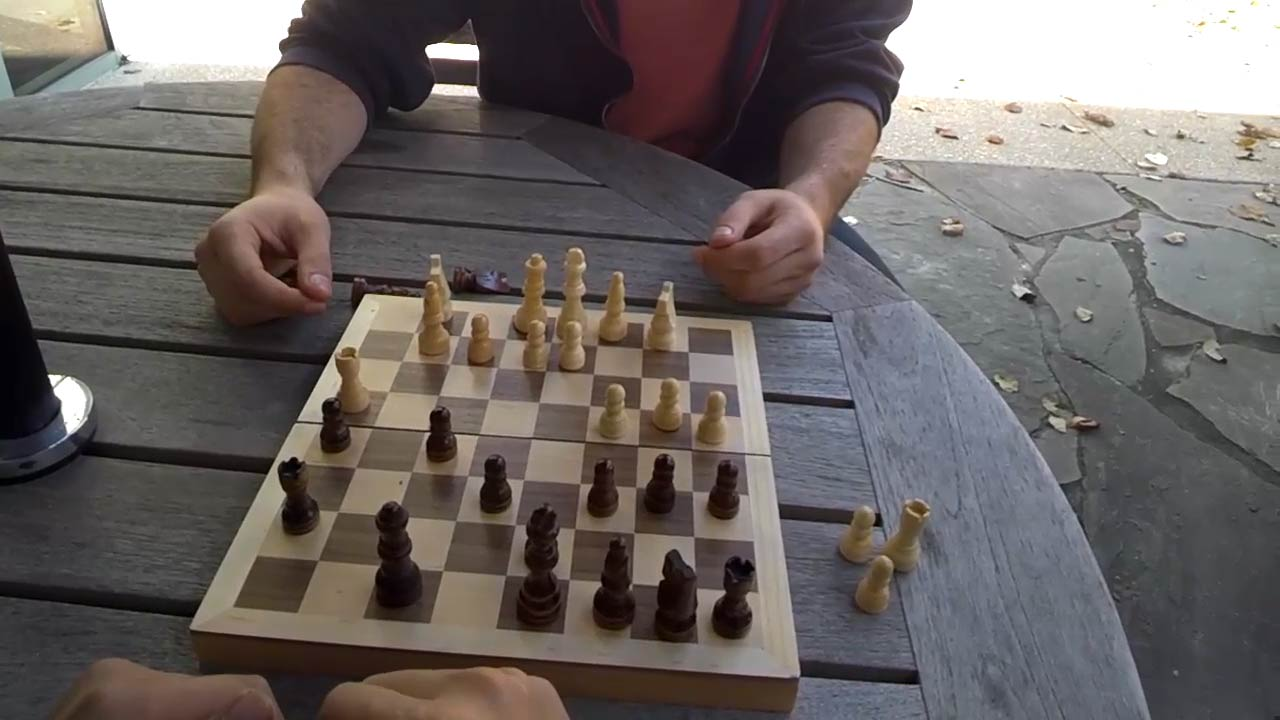hand: (198, 192, 332, 321), (694, 193, 823, 302), (318, 666, 570, 717), (51, 663, 282, 717)
